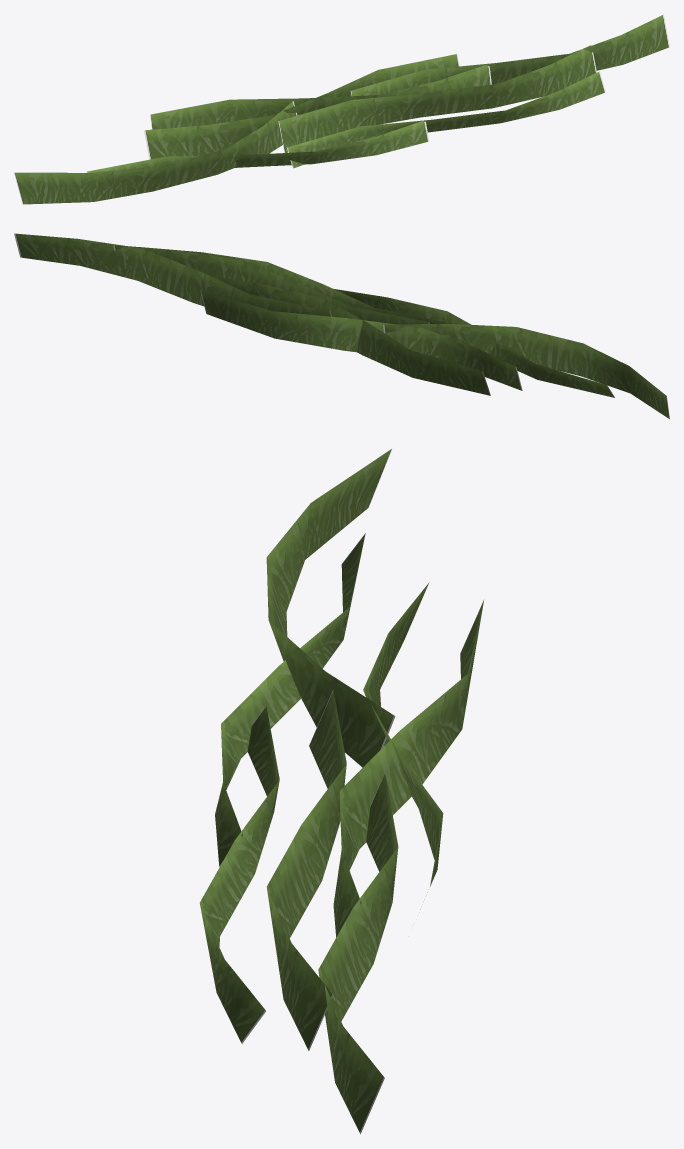
The model's file is grassline.fbx.
3 renders of one model, top to bottom at view 1: azimuth 30°, elevation 25°; view 2: azimuth 150°, elevation 25°; view 3: azimuth 270°, elevation 25°, orthographic. The views are drawn at different scales.
Visible parts, largest first — view 1: polySurface1501; view 2: polySurface1501; view 3: polySurface1501.
Part boxes in pixels (x1,y1,x2,y2): polySurface1501: [14, 14, 669, 204]; polySurface1501: [14, 233, 669, 419]; polySurface1501: [199, 449, 484, 1134].
Size of the model in its own units: 662 by 30.32 by 126.
